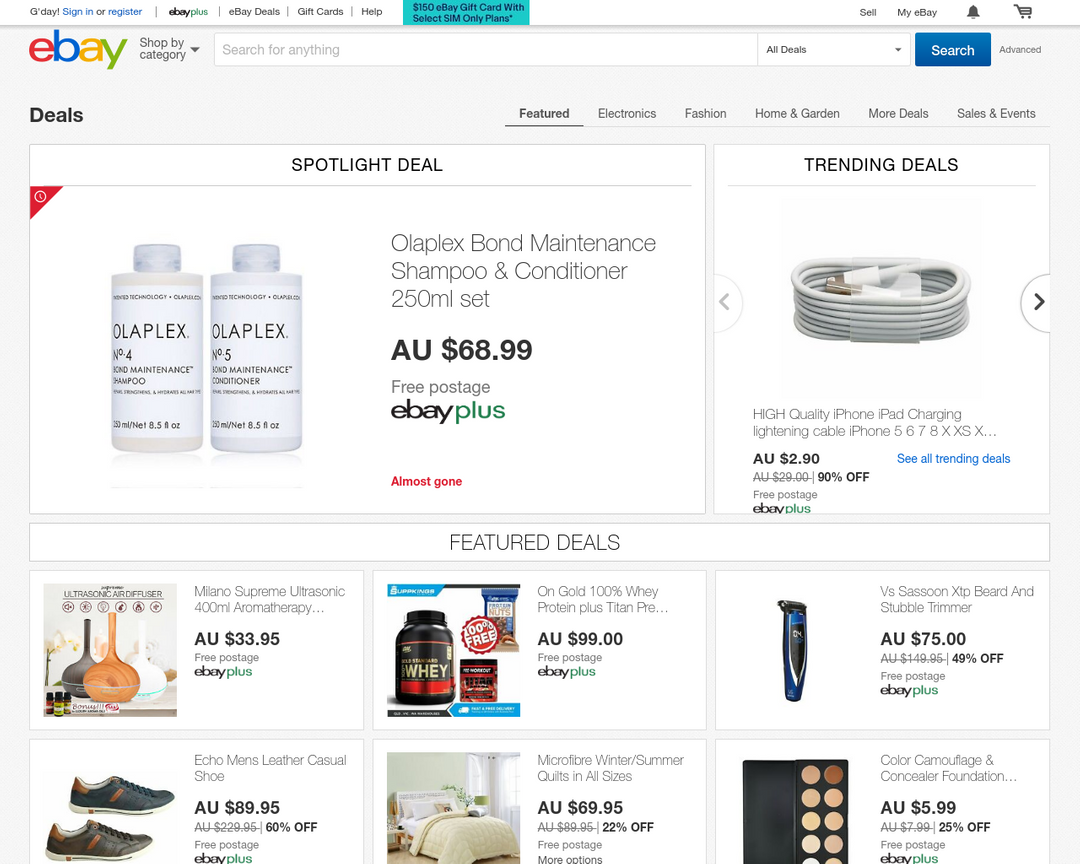Ebay: (22, 27, 131, 74)
